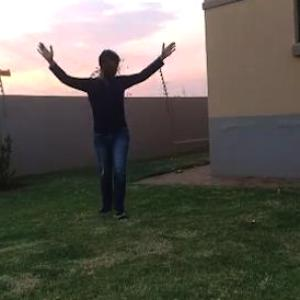takeoff: (27, 27, 181, 207)
